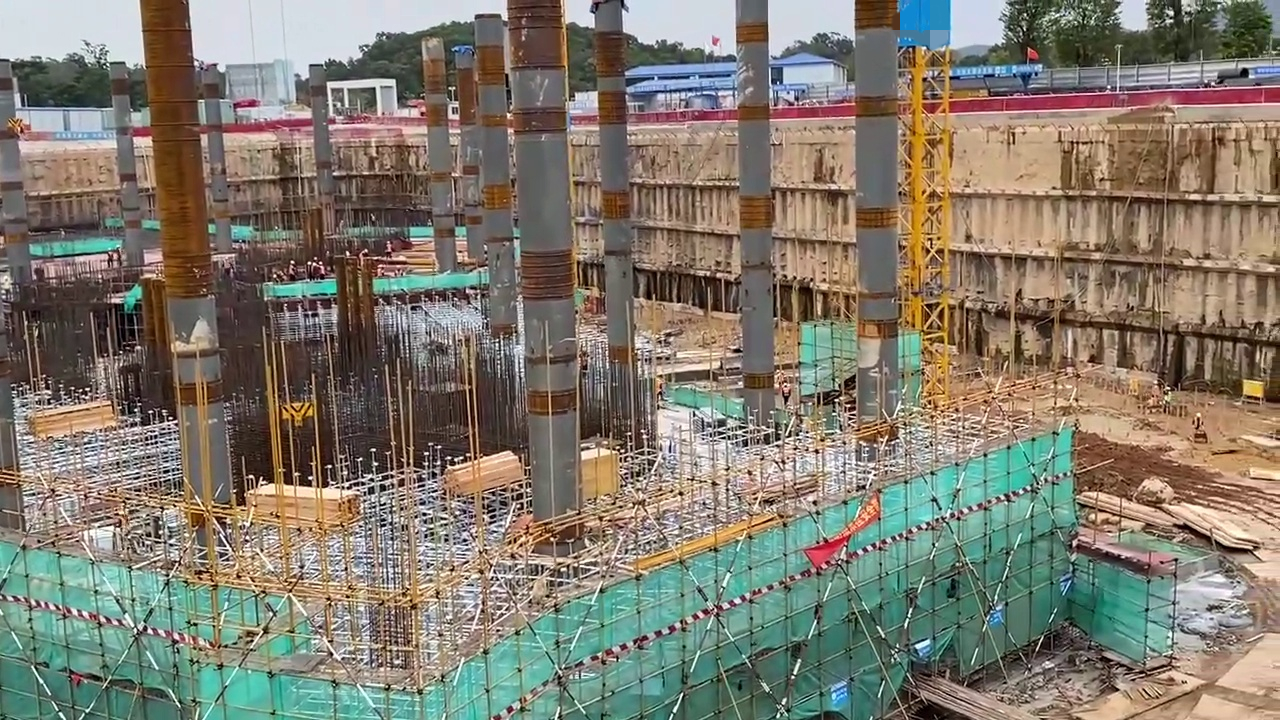board: (1181, 501, 1254, 549)
hook: (279, 397, 314, 423)
wood: (250, 483, 361, 524), (440, 451, 521, 493), (23, 402, 122, 436)
